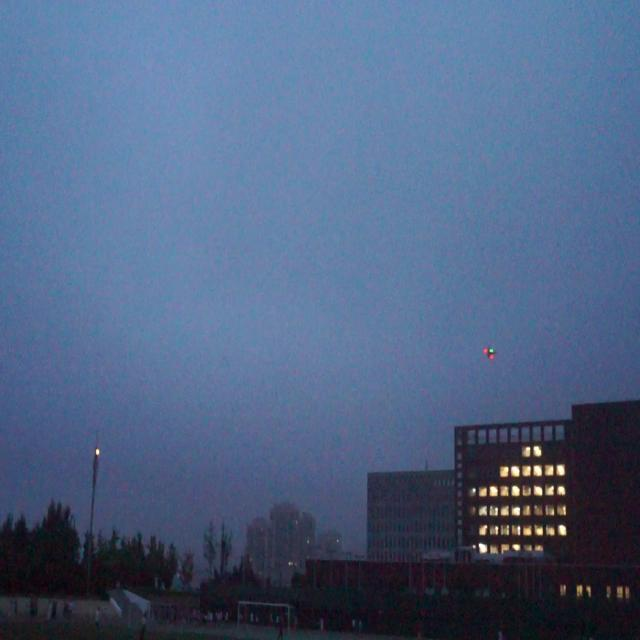drone: (483, 342, 496, 363)
